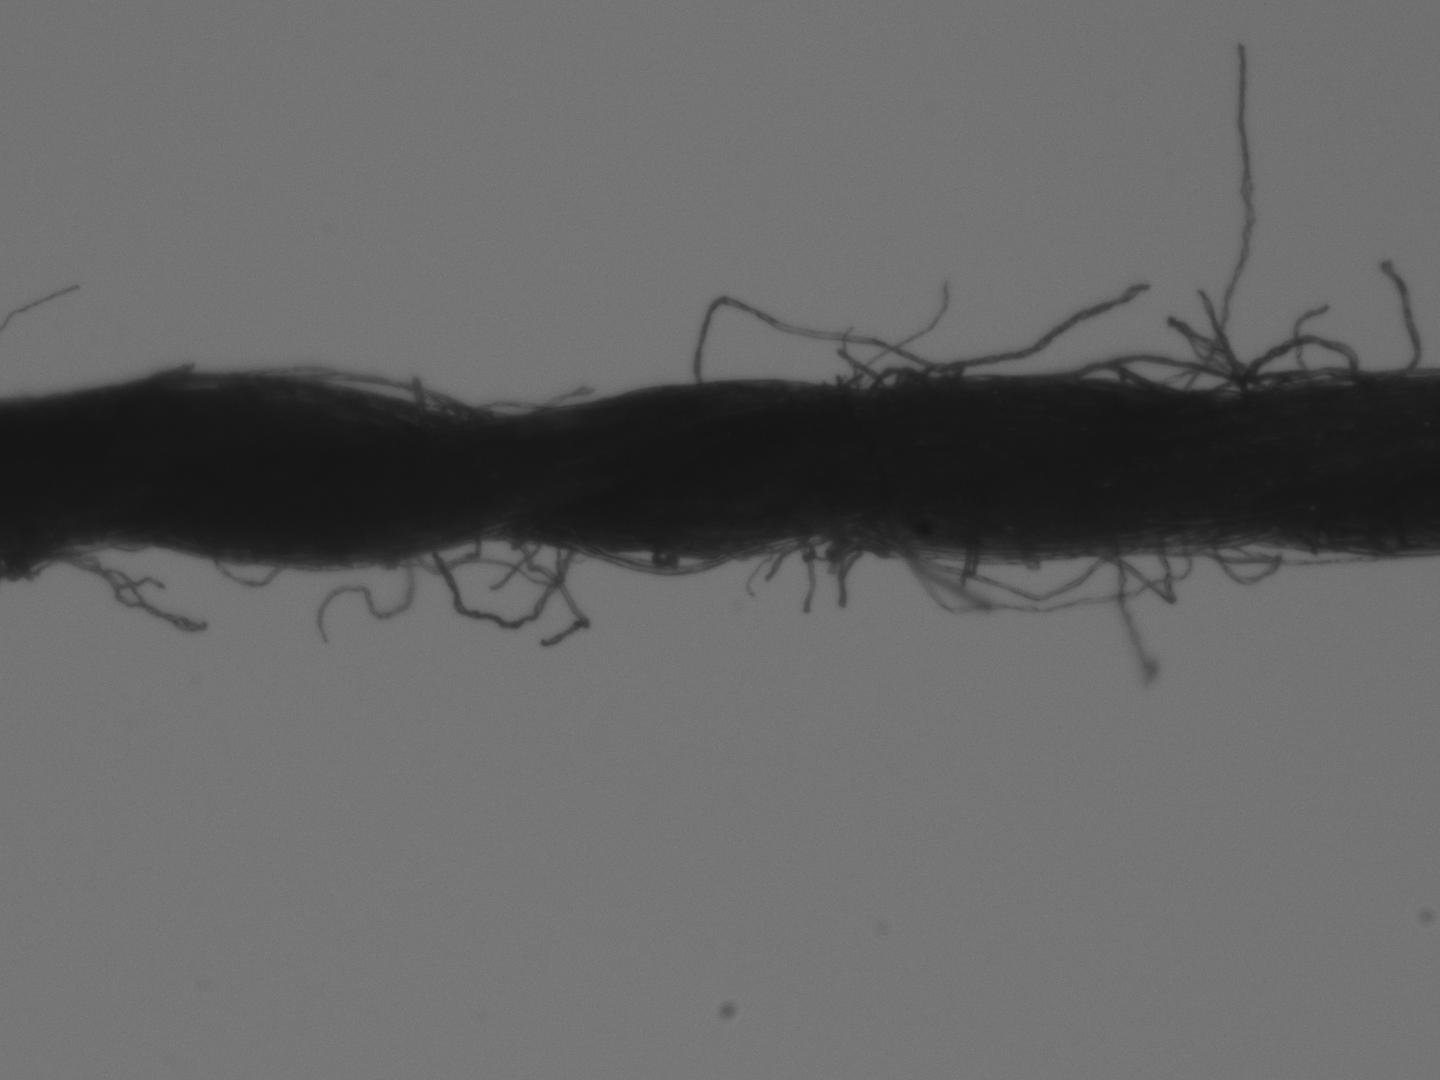loop_fiber: (429, 539, 570, 632), (905, 545, 1119, 598), (272, 369, 472, 416), (1238, 335, 1363, 397), (1067, 347, 1243, 389), (1194, 282, 1256, 382), (570, 545, 739, 579), (1098, 539, 1179, 606), (801, 520, 862, 568), (458, 398, 545, 427), (209, 557, 285, 588), (869, 365, 926, 389)
protruding_fiber: (691, 276, 1147, 387), (1220, 36, 1255, 391), (845, 273, 949, 391), (1373, 255, 1425, 377)
